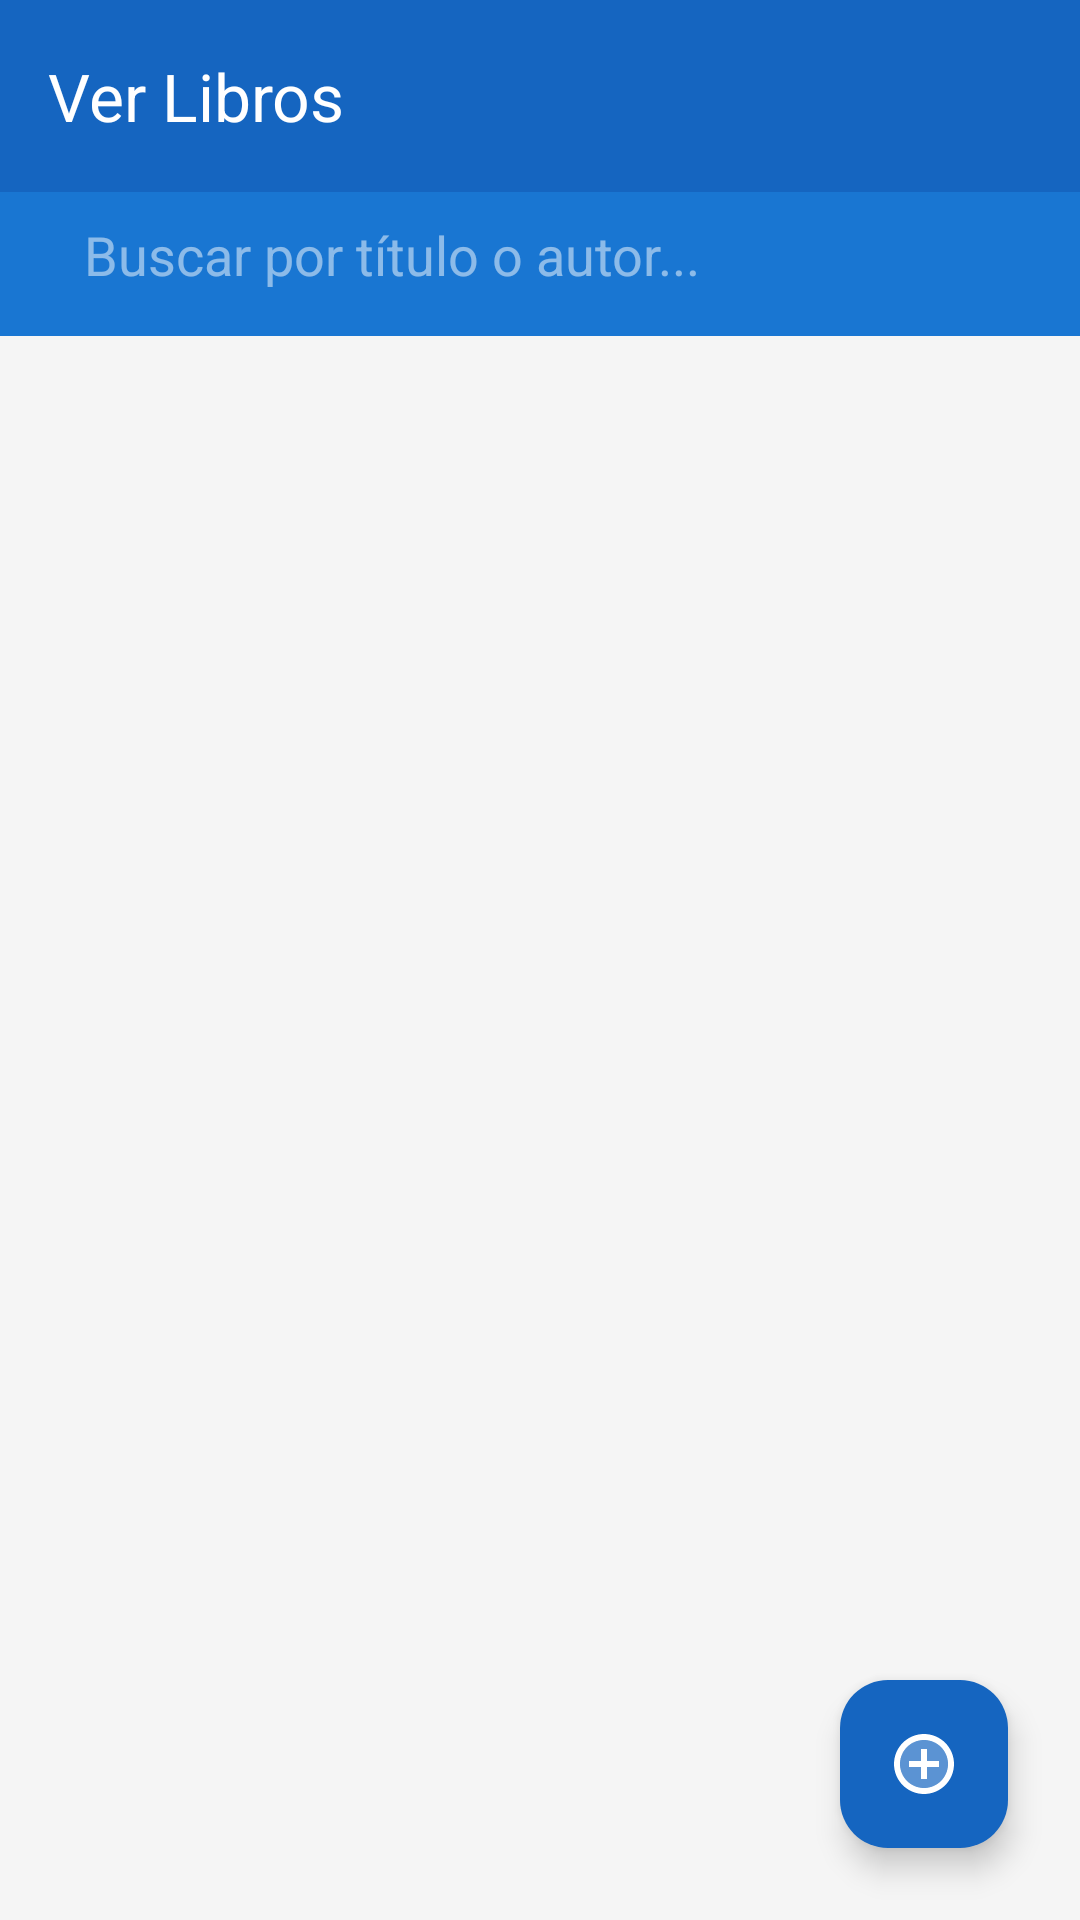

Where icons sit on this 1080*1920 app screen, as (x1,y1,x2,y2):
Añadir libro: (840,1680,1008,1848)
